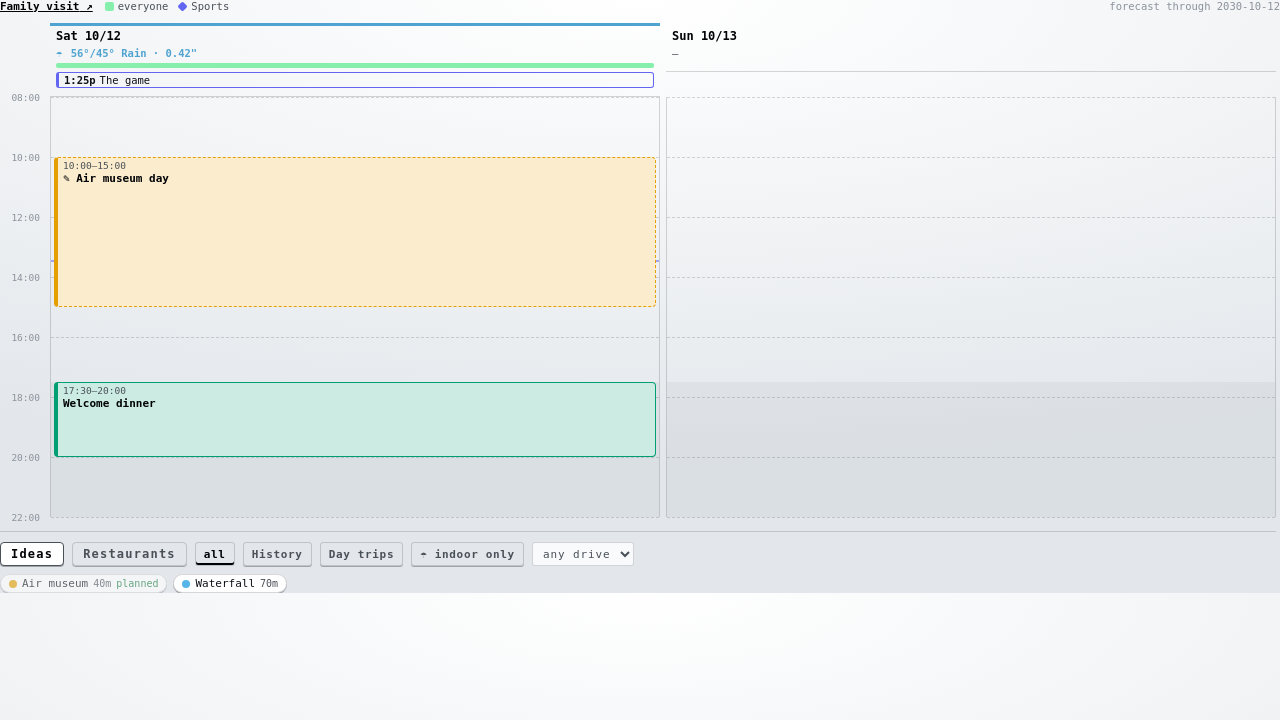
ScheduleBoard › a linked item opens its bank popup; an unlinked one opens the item card
Click the text "✎ Air museum day" at coordinates (116, 178), box x1=63 y1=172 x2=169 y2=185
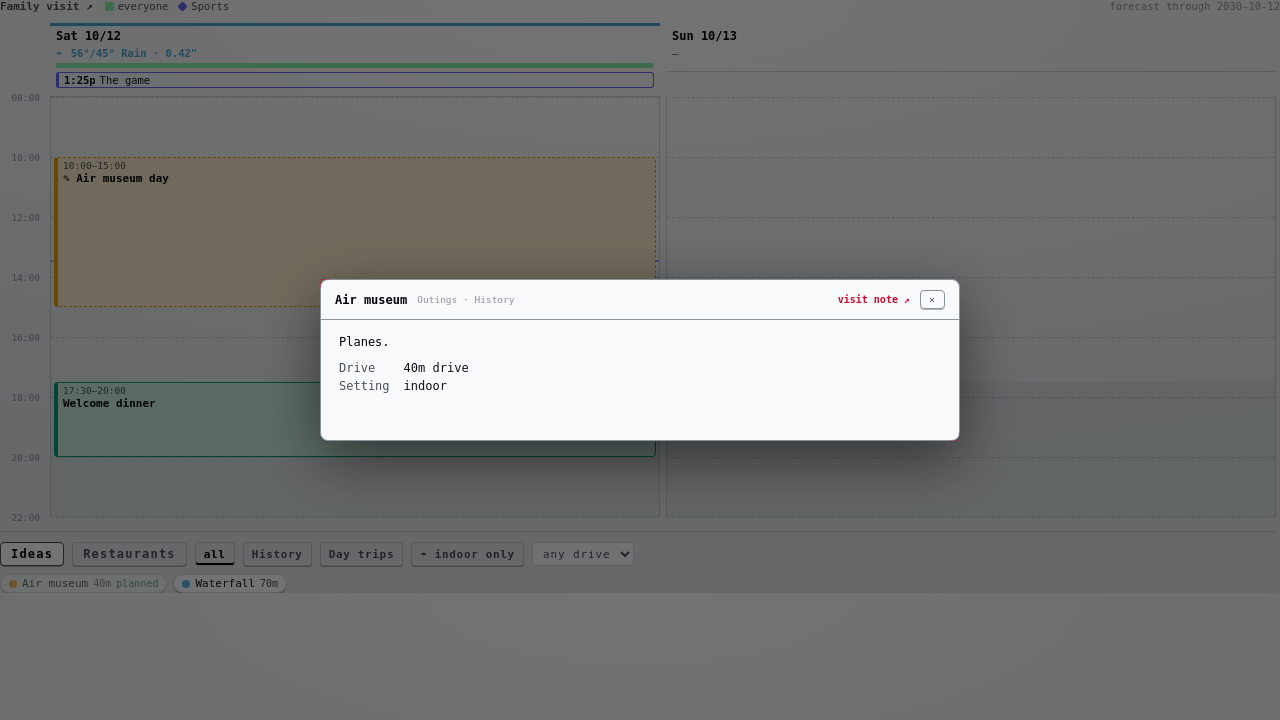
Check: the dialog "Air museum" is shown, box x1=320 y1=279 x2=960 y2=441
Press Escape
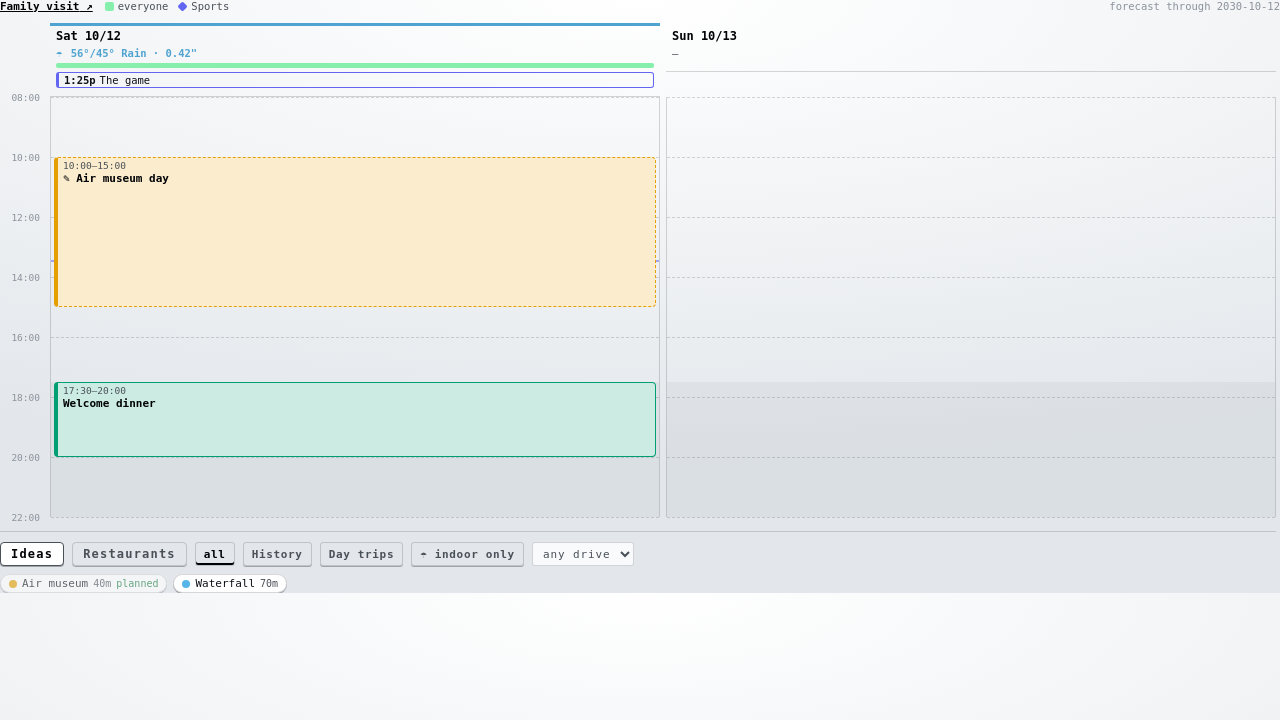
Click the text "Welcome dinner" at coordinates (109, 404), box x1=63 y1=397 x2=156 y2=410
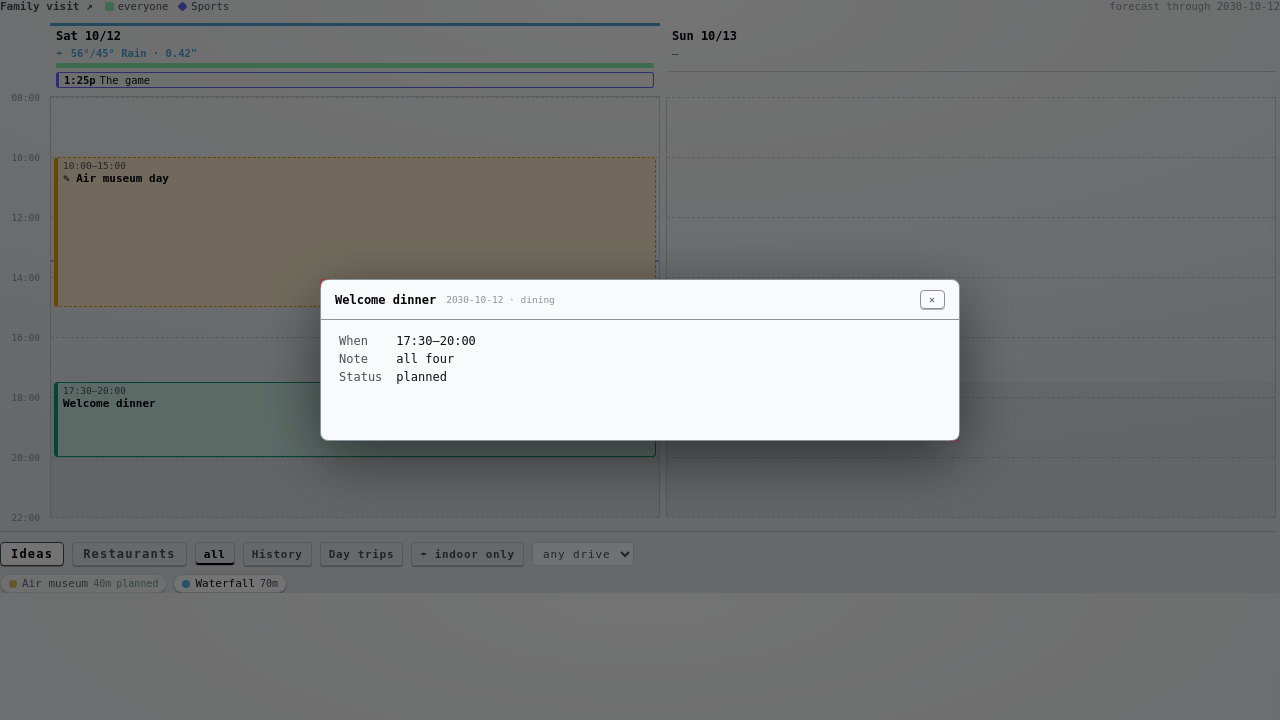
Check: the text "17:30–20:00" is shown, box x1=396 y1=334 x2=476 y2=348
Check: the text "all four" is shown, box x1=396 y1=352 x2=454 y2=366
Press Escape
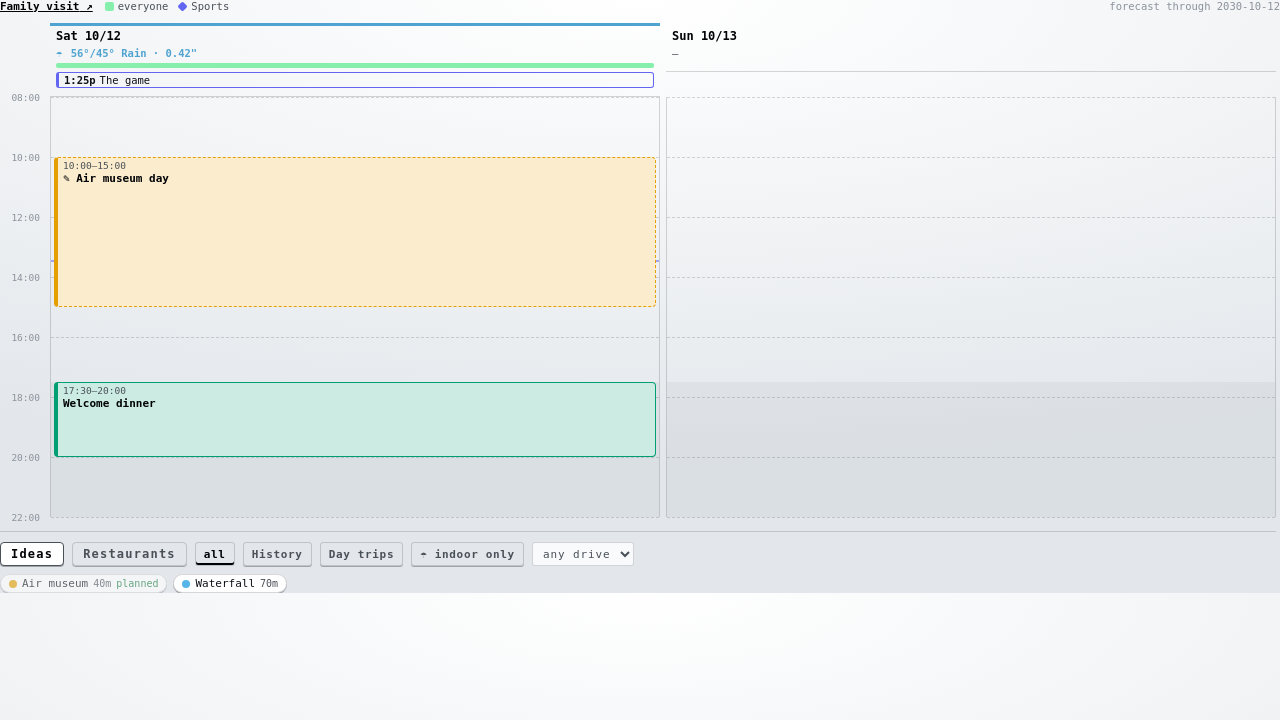
Check: the dialog is gone
